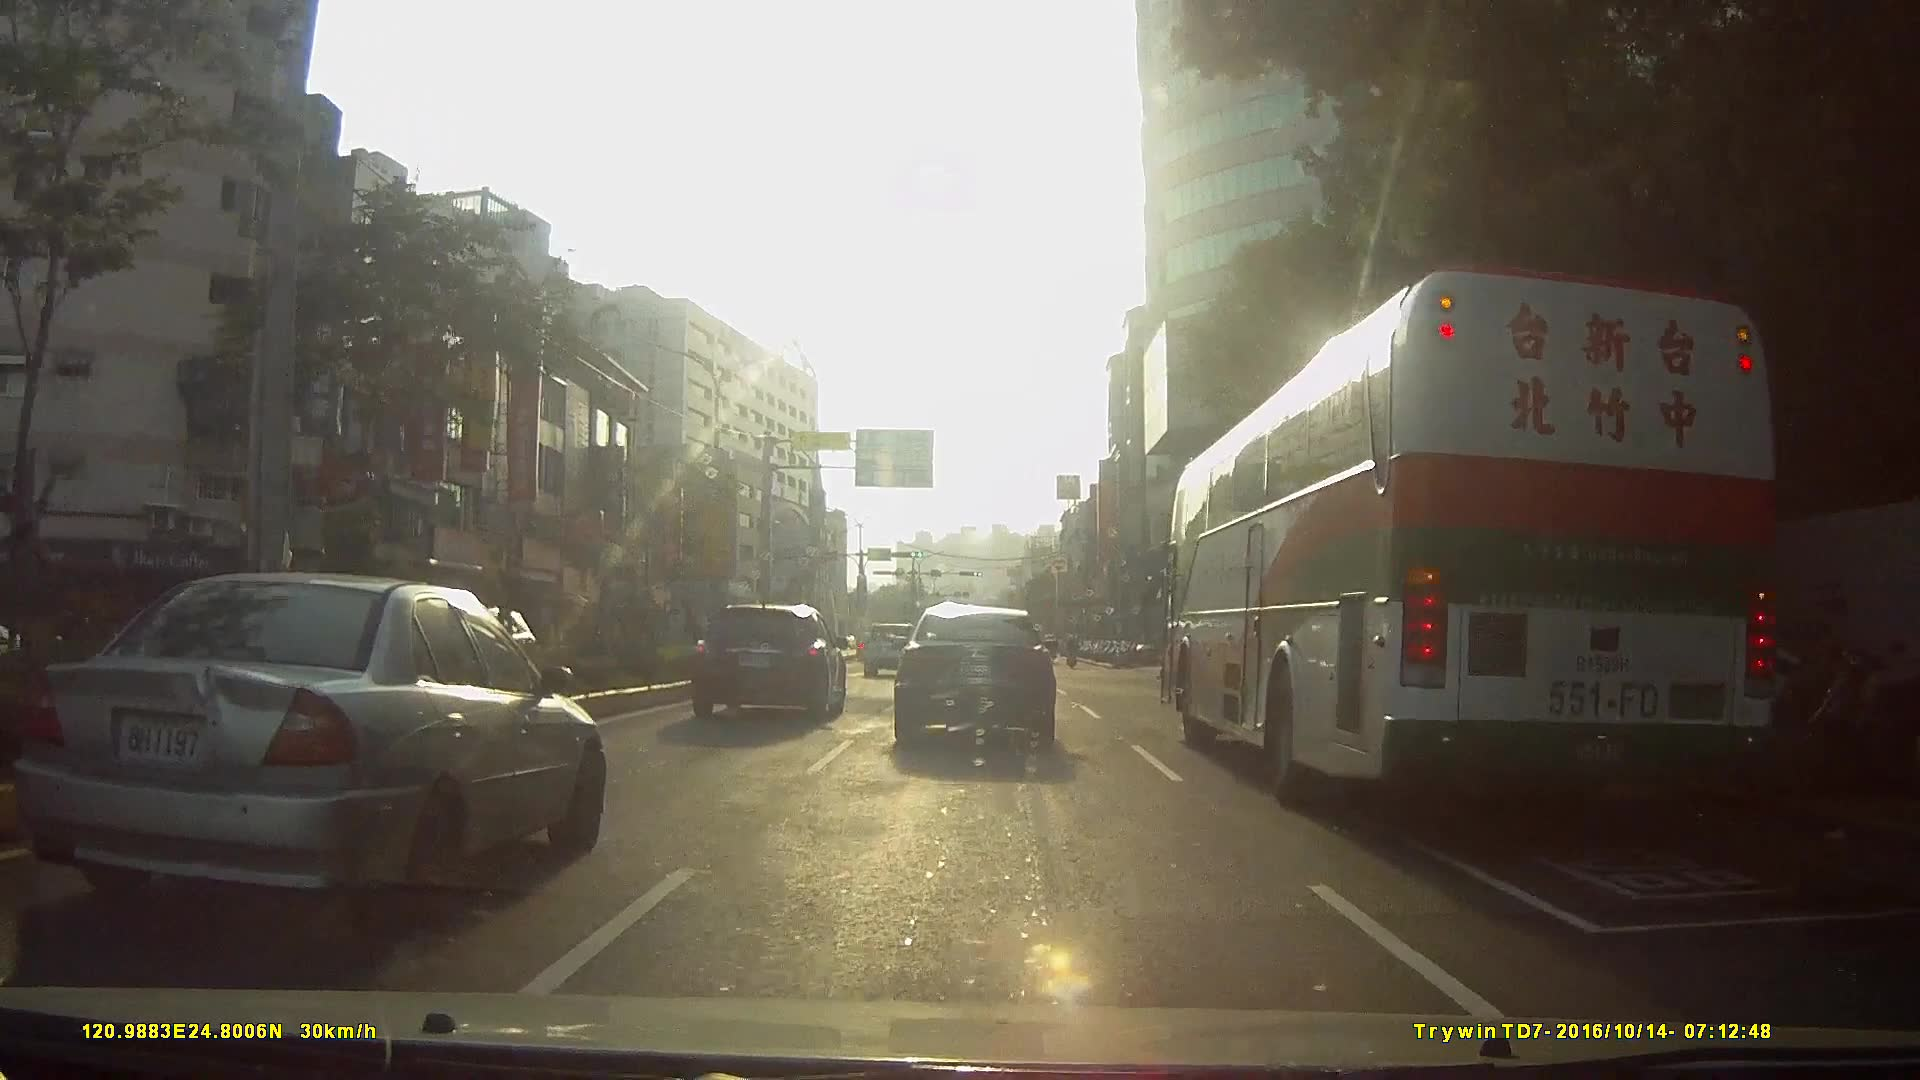vehicle: (1159, 229, 1850, 824), (0, 568, 604, 938), (890, 603, 1056, 752), (690, 603, 847, 723), (860, 624, 920, 682)
